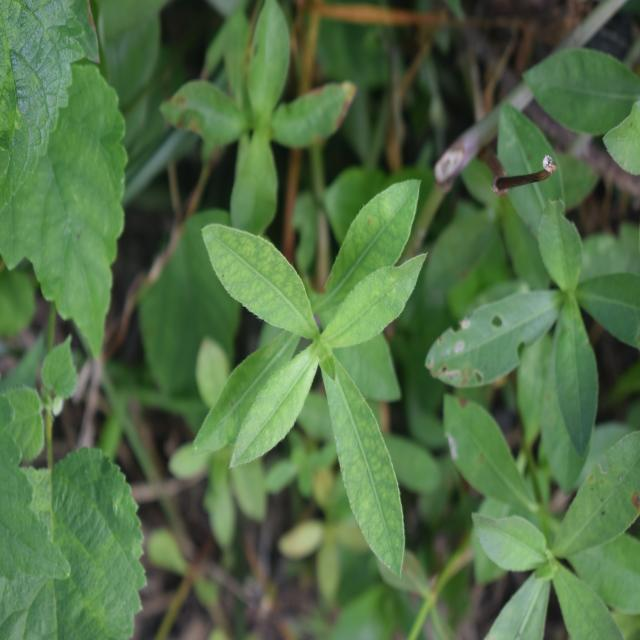Alligatorweed: (190, 160, 447, 594), (458, 174, 637, 466)
